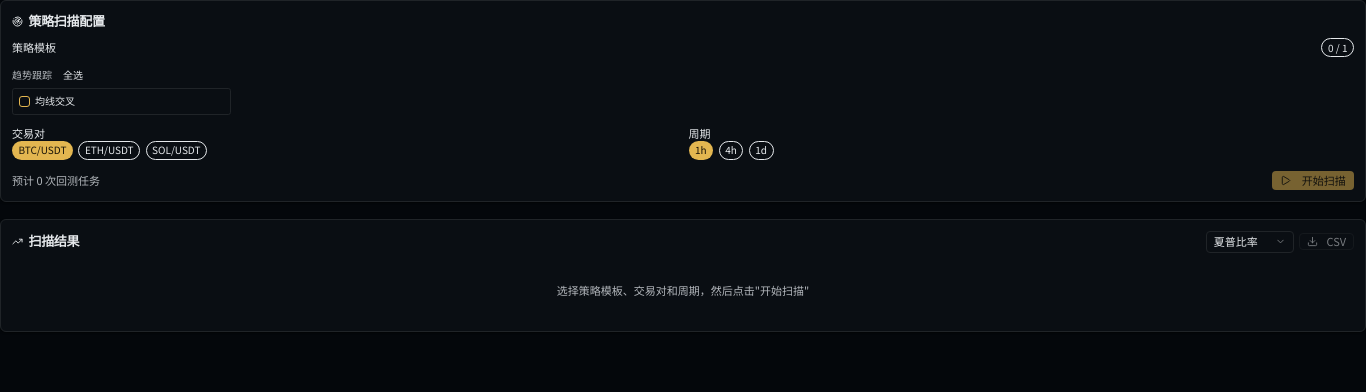
Test: 扫描期间不伪造结果 › 完成但缺 total_return 时渲染中性 —，且不带涨跌色
Click the checkbox.
click(24, 101)  # box left=18, top=96, right=30, bottom=107
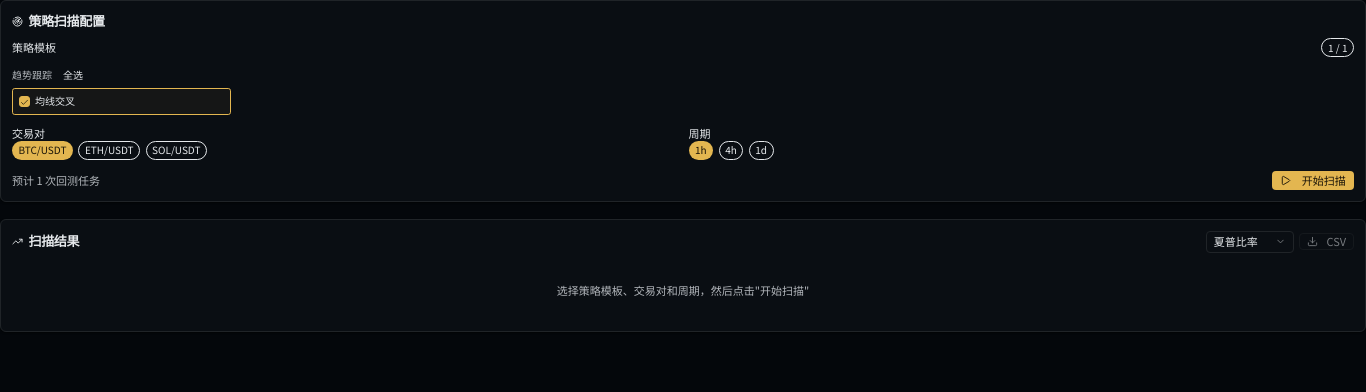
Click the button "开始扫描".
click(1313, 180)  # box left=1272, top=171, right=1354, bottom=190
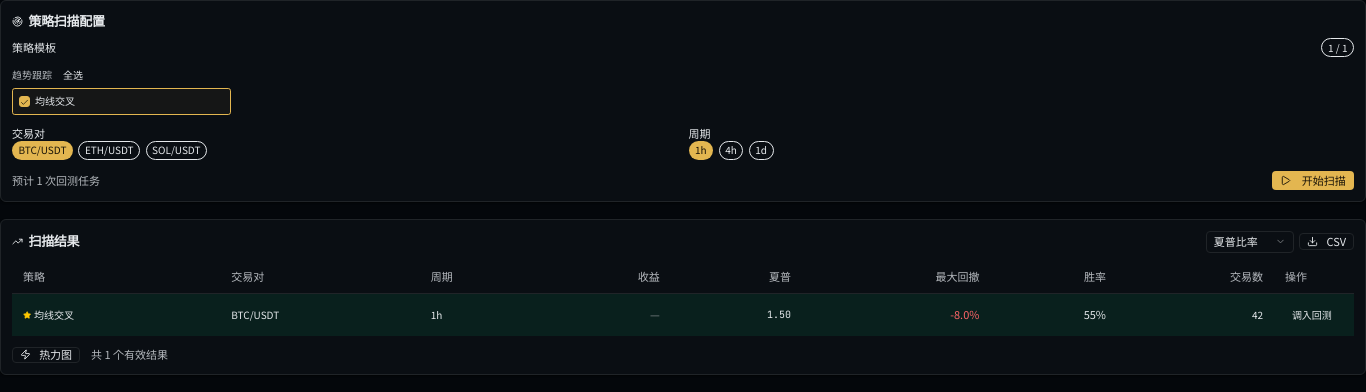
Check: the text "共 1 个有效结果" is shown, box left=91, top=347, right=168, bottom=362
Check: the text "—" is shown, box left=650, top=306, right=660, bottom=322
